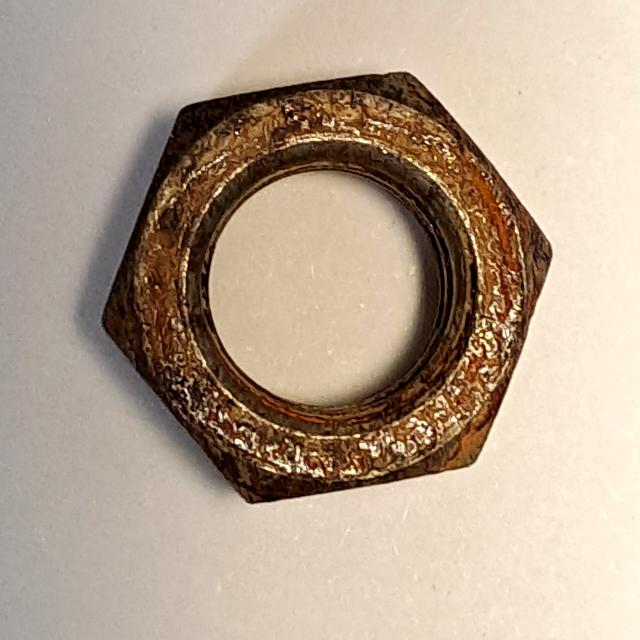Rust: (87, 53, 563, 520)
